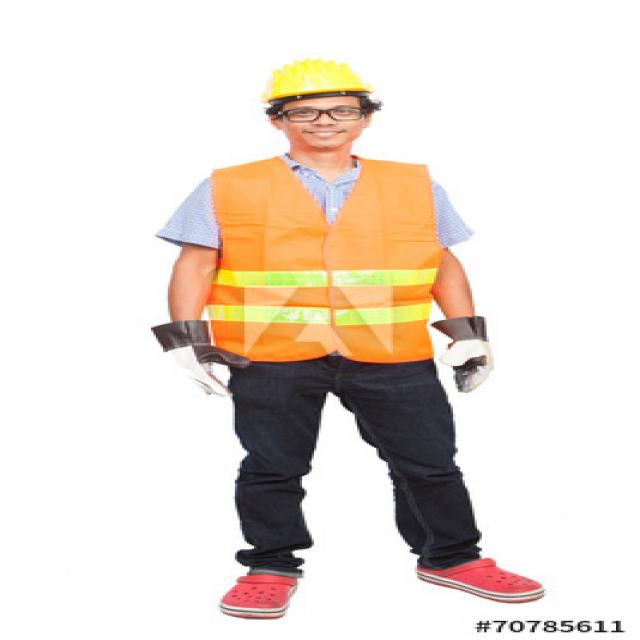Reflective-Jacket: (192, 156, 450, 364)
Safety-Helmet: (257, 54, 381, 104)
